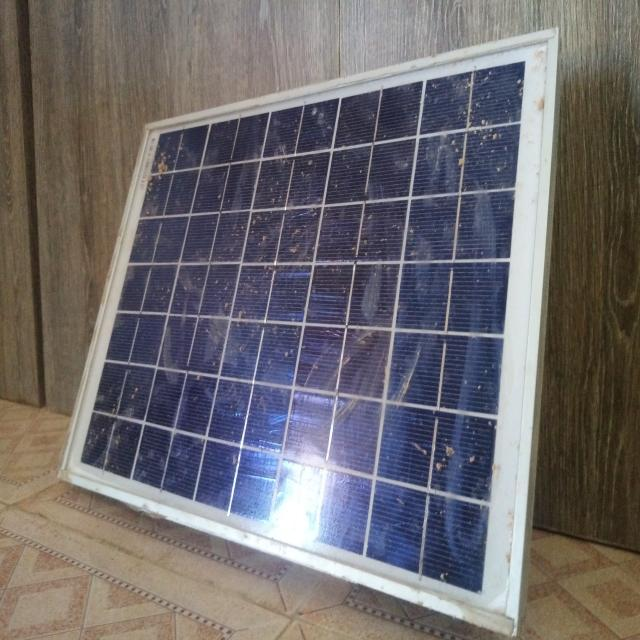faulty: (58, 31, 558, 630)
